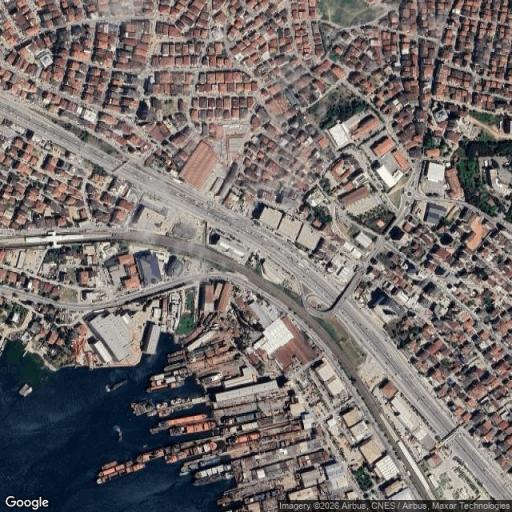ship: (97, 461, 146, 485), (165, 442, 218, 464), (136, 443, 181, 463), (169, 421, 216, 436), (181, 456, 221, 472), (97, 460, 134, 477), (193, 471, 234, 486), (195, 464, 232, 479), (150, 368, 188, 381), (166, 414, 208, 425), (106, 380, 130, 393), (113, 424, 124, 443), (102, 460, 118, 470), (23, 388, 34, 397), (20, 384, 28, 395), (1, 339, 8, 351)
